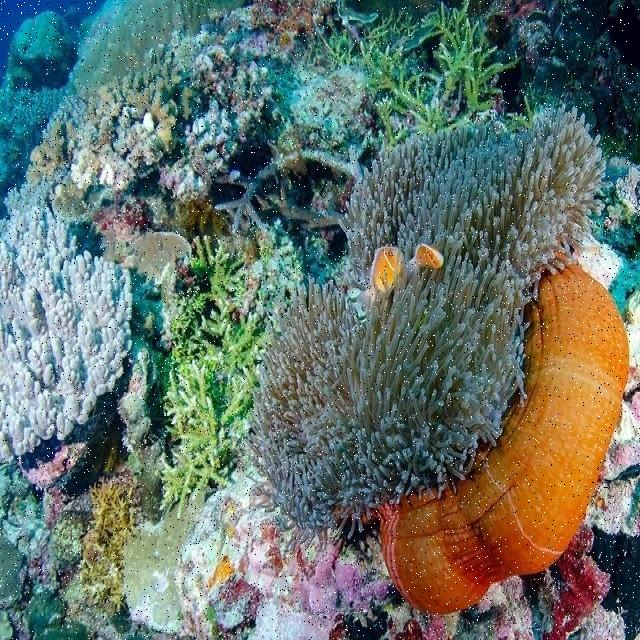fish: (357, 245, 405, 312), (407, 242, 444, 276)
reefs: (245, 103, 630, 617), (28, 20, 277, 204), (0, 183, 134, 462), (158, 234, 262, 519)
